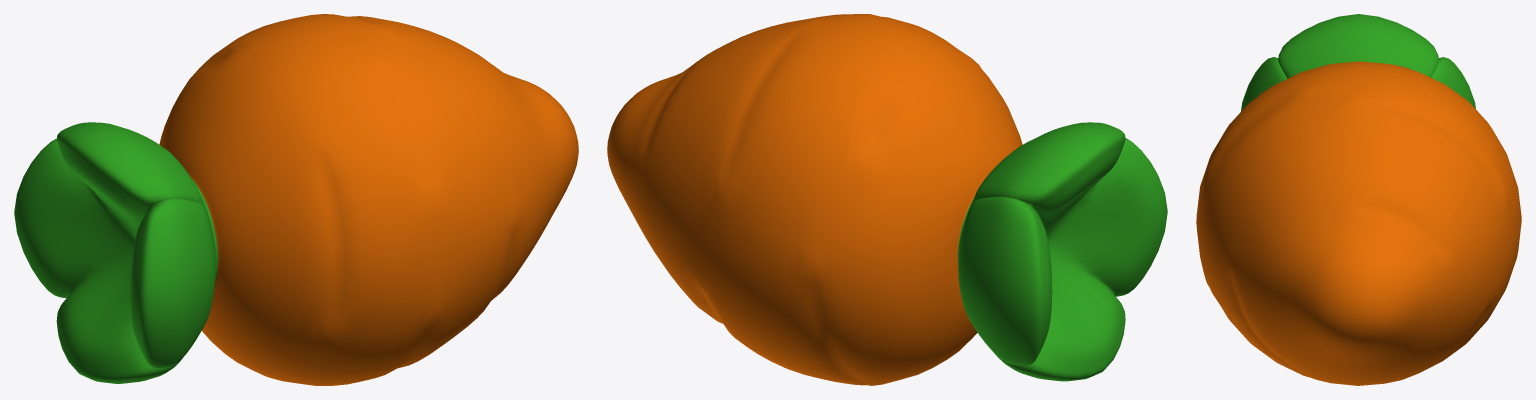
Rendered from Carrot_Ing.fbx.
3 views of the same model, side by side, from view 1: azimuth 30°, elevation 25°; view 2: azimuth 150°, elevation 25°; view 3: azimuth 270°, elevation 25° (orthographic). The views are drawn at different scales.
Parts seen in each view (by area): view 1: Carrot1; view 2: Carrot1; view 3: Carrot1.
Part boxes in pixels (bbox=[...]): Carrot1: bbox=[14, 14, 578, 385]; Carrot1: bbox=[607, 14, 1167, 385]; Carrot1: bbox=[1196, 14, 1521, 385].
Bounding box in the file's own units: 85.23 × 55.73 × 55.6.
